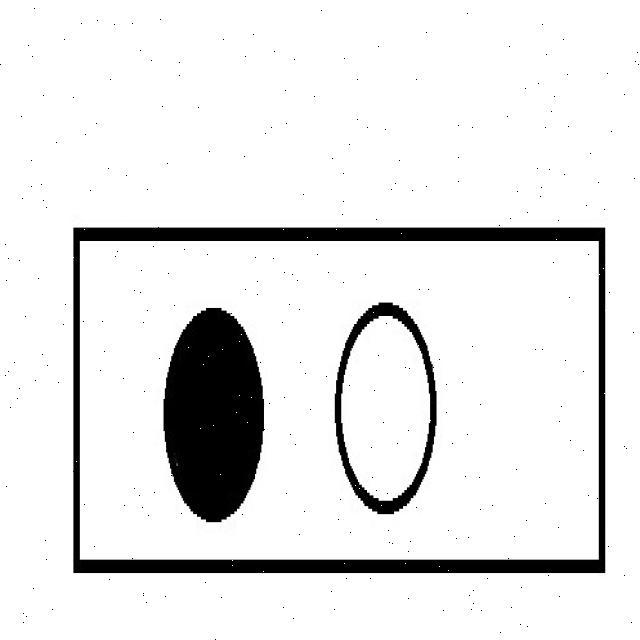Circle: (332, 296, 441, 519), (160, 302, 267, 525)
